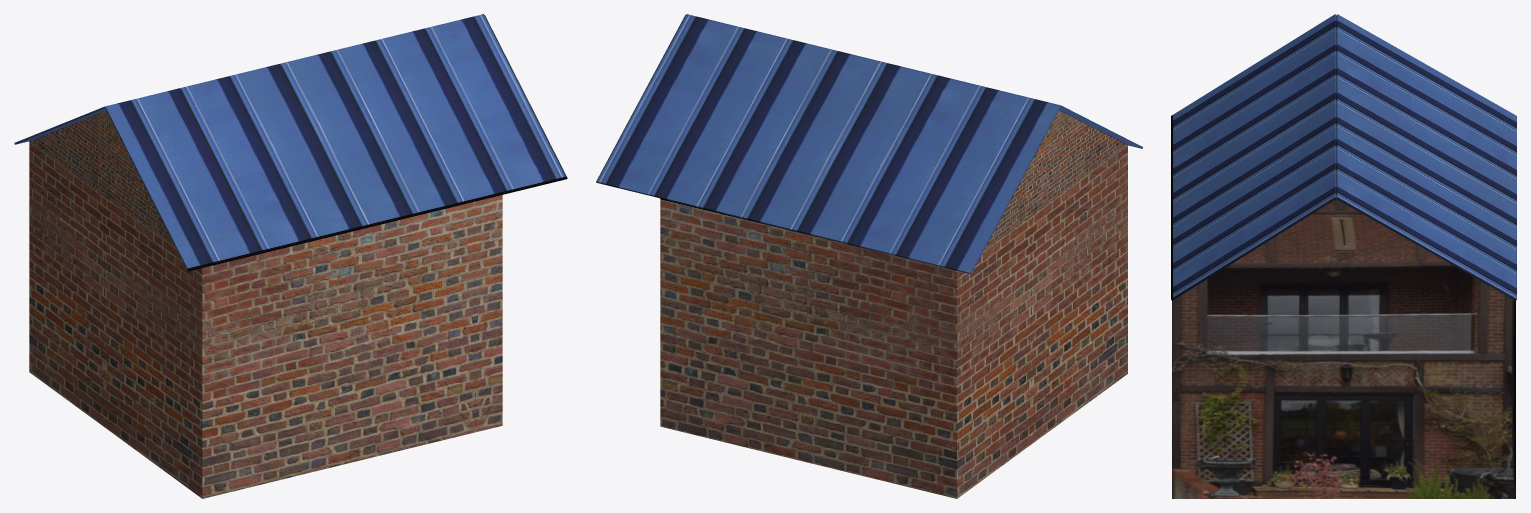
The model's file is house.fbx.
3 views of the same model, side by side, from view 1: azimuth 30°, elevation 25°; view 2: azimuth 150°, elevation 25°; view 3: azimuth 270°, elevation 25° (orthographic).
Parts seen in each view (by area): view 1: house1, roof1, roof; view 2: house1, roof, roof1; view 3: house1, roof, roof1.
Boxes of the visible parts, x1=… form: house1: x1=29, y1=110, x2=502, y2=498; roof1: x1=105, y1=15, x2=567, y2=271; roof: x1=14, y1=14, x2=483, y2=144; house1: x1=660, y1=110, x2=1127, y2=498; roof: x1=596, y1=15, x2=1060, y2=273; roof1: x1=686, y1=14, x2=1142, y2=148; house1: x1=1172, y1=22, x2=1515, y2=498; roof: x1=1336, y1=14, x2=1516, y2=300; roof1: x1=1171, y1=14, x2=1336, y2=300.
Size of the model in its own units: 689 by 582 by 549.
1 material, 1 textured.
